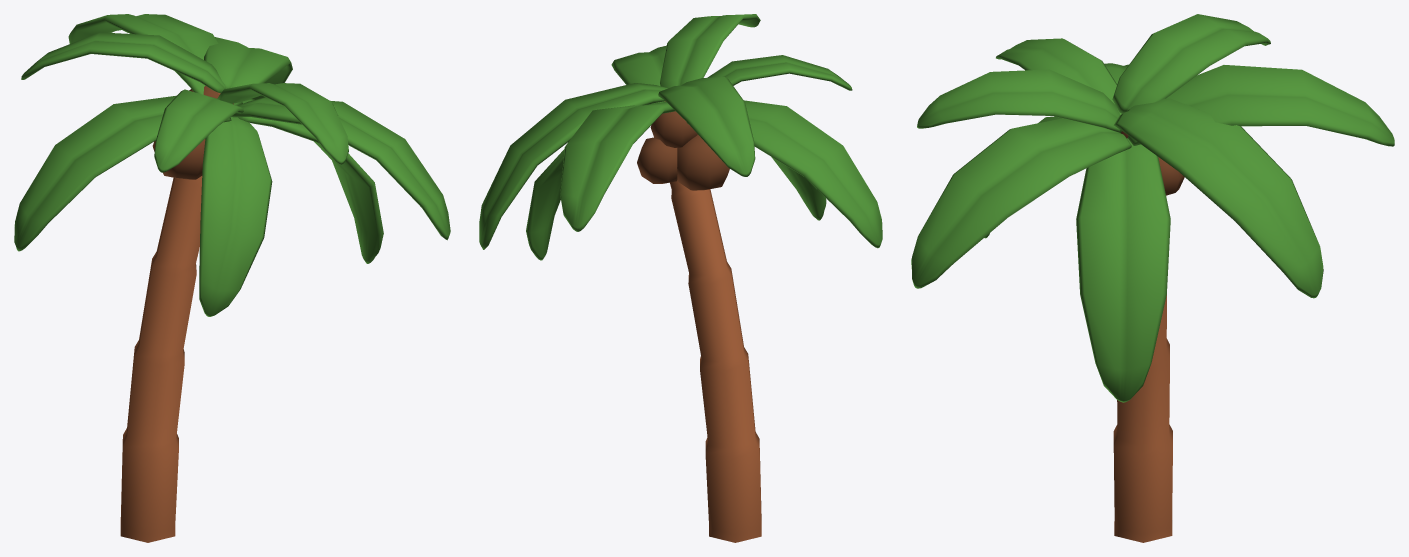
File: Palm_Tree_01.fbx
The picture shows the model from 3 angles, left to right: view 1: azimuth 30°, elevation 25°; view 2: azimuth 150°, elevation 25°; view 3: azimuth 270°, elevation 25°; orthographic projection. The views are drawn at different scales.
Parts seen in each view (by area): view 1: Palm_Tree_01; view 2: Palm_Tree_01; view 3: Palm_Tree_01.
Part boxes in pixels (box(x1,y1,x2,y2)): Palm_Tree_01: box(14, 14, 450, 542); Palm_Tree_01: box(479, 14, 882, 542); Palm_Tree_01: box(911, 14, 1394, 542).
Bounding box in the file's own units: 1762 × 2236 × 1963.
